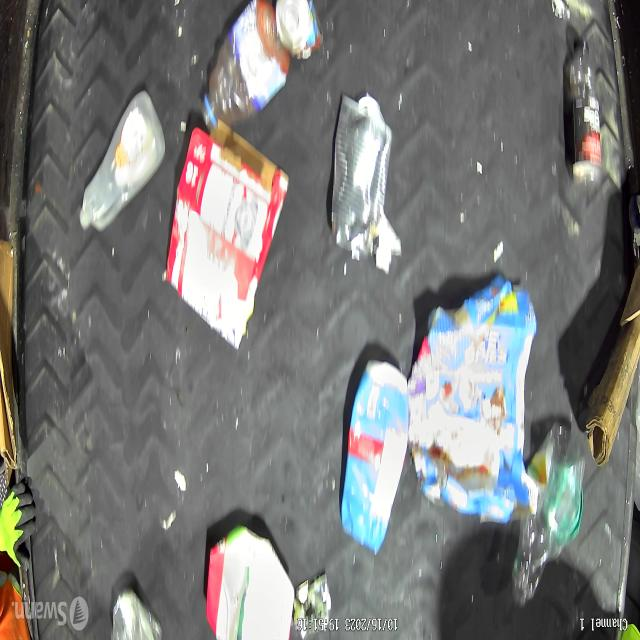can: (328, 80, 392, 254), (274, 0, 324, 64)
milk_jug: (76, 86, 164, 230)
non_white_jug: (202, 521, 294, 640)
plastic_bottle: (511, 422, 585, 606), (200, 0, 284, 124), (566, 35, 608, 186)
